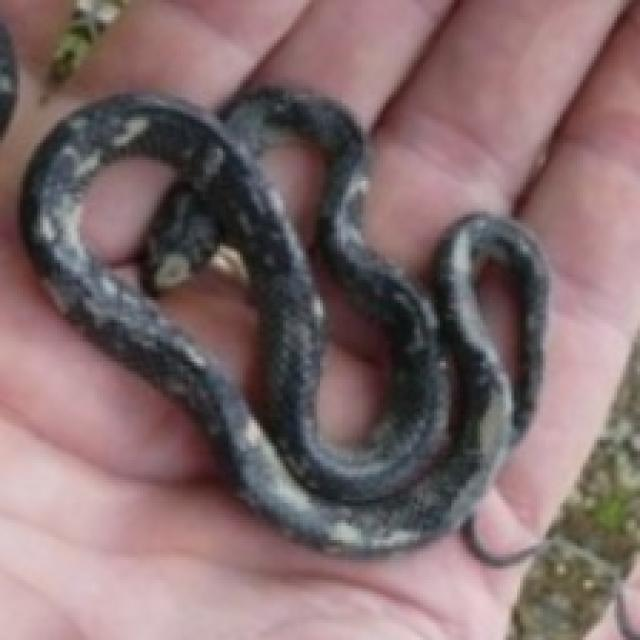gunthers philippine shrub snake: (21, 91, 550, 553), (460, 519, 549, 567), (1, 25, 18, 133)
